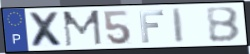5: (102, 9, 133, 46)
B: (204, 6, 242, 44)
F: (138, 9, 166, 44)
I: (171, 7, 186, 45)
M: (61, 9, 104, 48)
X: (27, 11, 67, 48)
